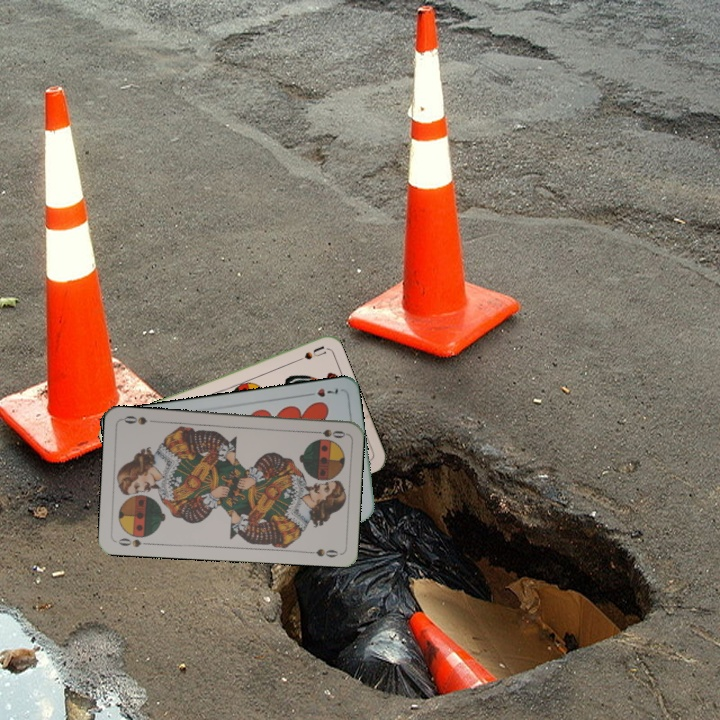H7: (302, 384, 342, 400)
SO: (307, 425, 348, 441), (113, 534, 153, 549)
SU: (288, 342, 328, 366)
